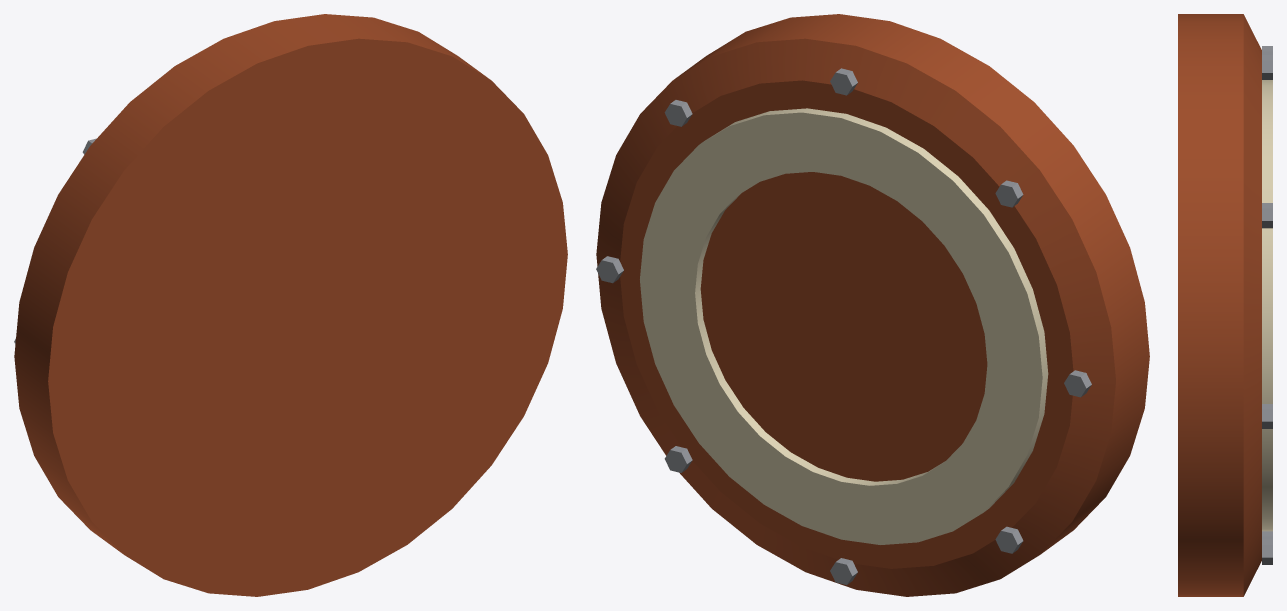
Rendered from pod100_access_hatch.obj.
3 renders of one model, left to right at view 1: azimuth 30°, elevation 25°; view 2: azimuth 150°, elevation 25°; view 3: azimuth 270°, elevation 25°, orthographic. The views are drawn at different scales.
Visible parts, largest first — view 1: pod100_access_hatch; view 2: pod100_access_hatch; view 3: pod100_access_hatch.
Boxes of the visible parts, x1,y1,x2,y2 form: pod100_access_hatch: (14,14,567,596); pod100_access_hatch: (596,14,1149,596); pod100_access_hatch: (1178,14,1272,596).
Bounding box in the file's own units: 1.6 × 1.6 × 0.26.
